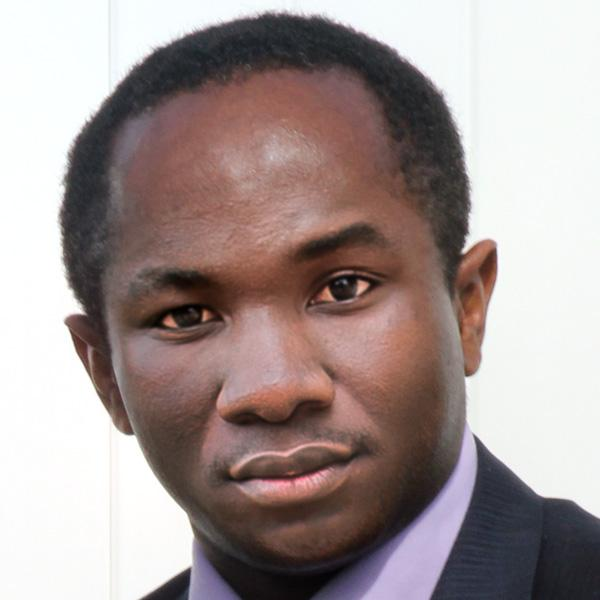Eyes: (301, 251, 389, 321), (136, 289, 232, 351)
